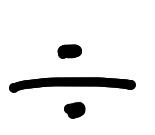div: (9, 45, 136, 119)
